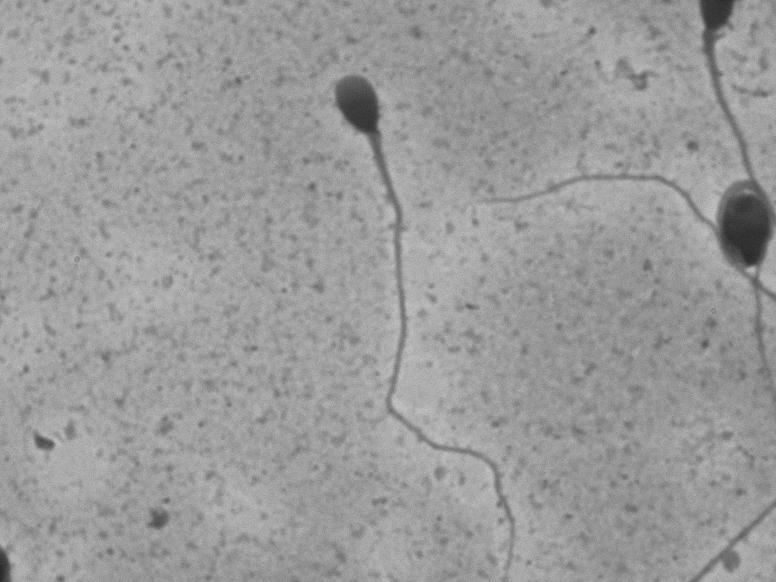Normal: (279, 26, 524, 566)
